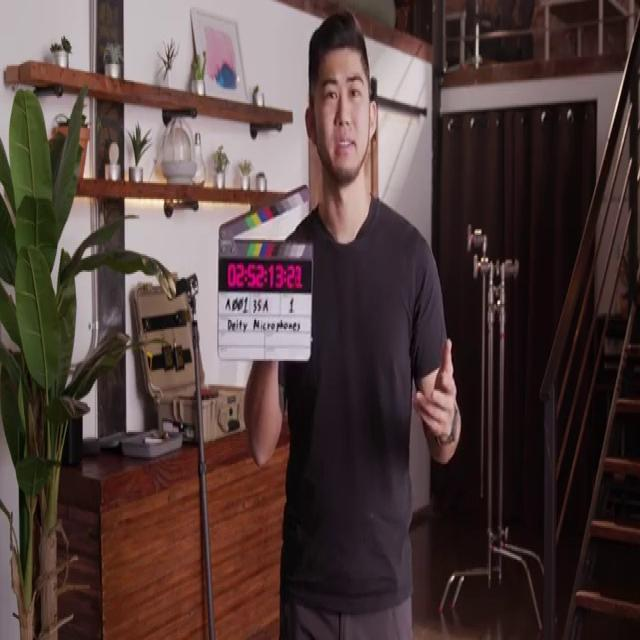Clapperboard: (217, 185, 313, 363)
